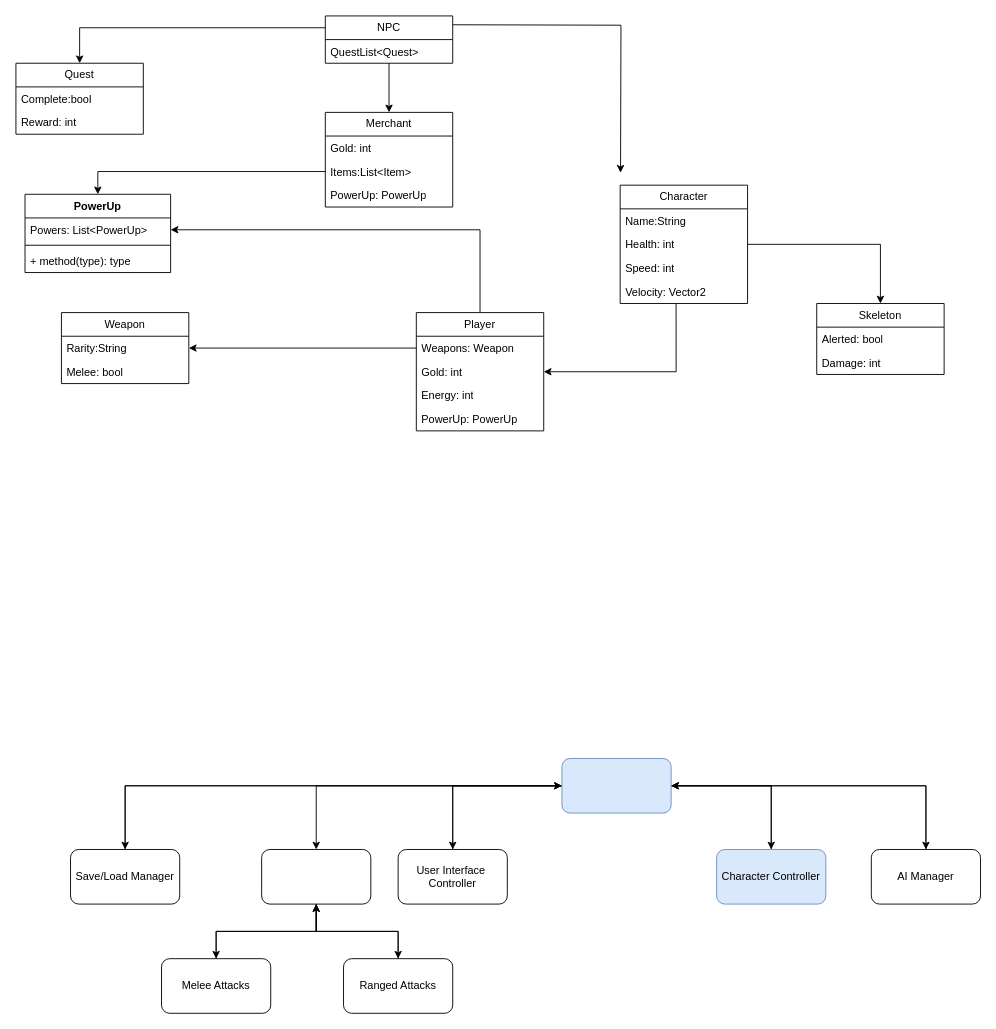
Image size: 996x1029. Some labels were removed from this diagram. The shapes that lost their labels are listed below. From the top down, each one's centre as x and y in pixels, then its label:
At pixel 616 785: "GameManager".
At pixel 316 876: "Attack Controller".
